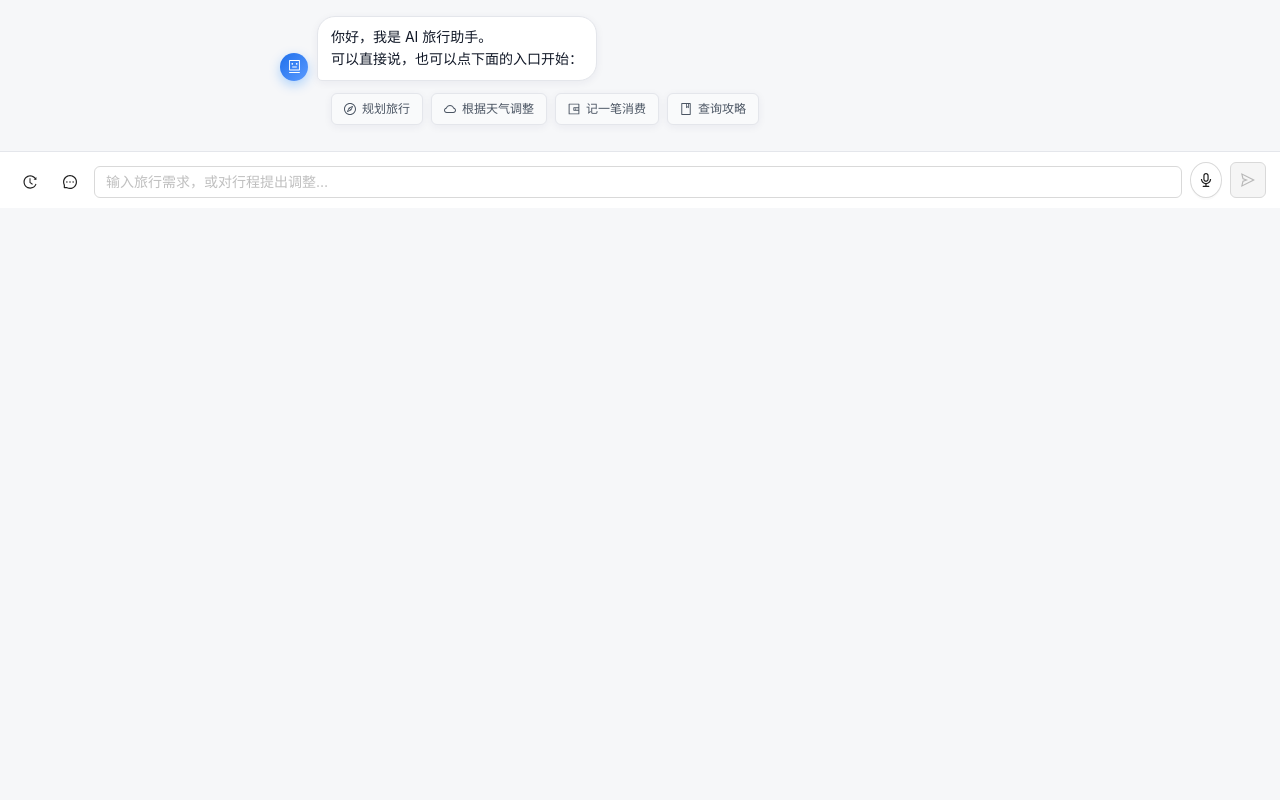
Test: ChatPanel · V2.2 过程时间线与同步结果面板 › 运行记录入口打开抽屉并拉取最近运行（AgentRunsDrawer 自包含）
Click the button named "运行记录".
click(30, 182)  # box [14,166,46,198]
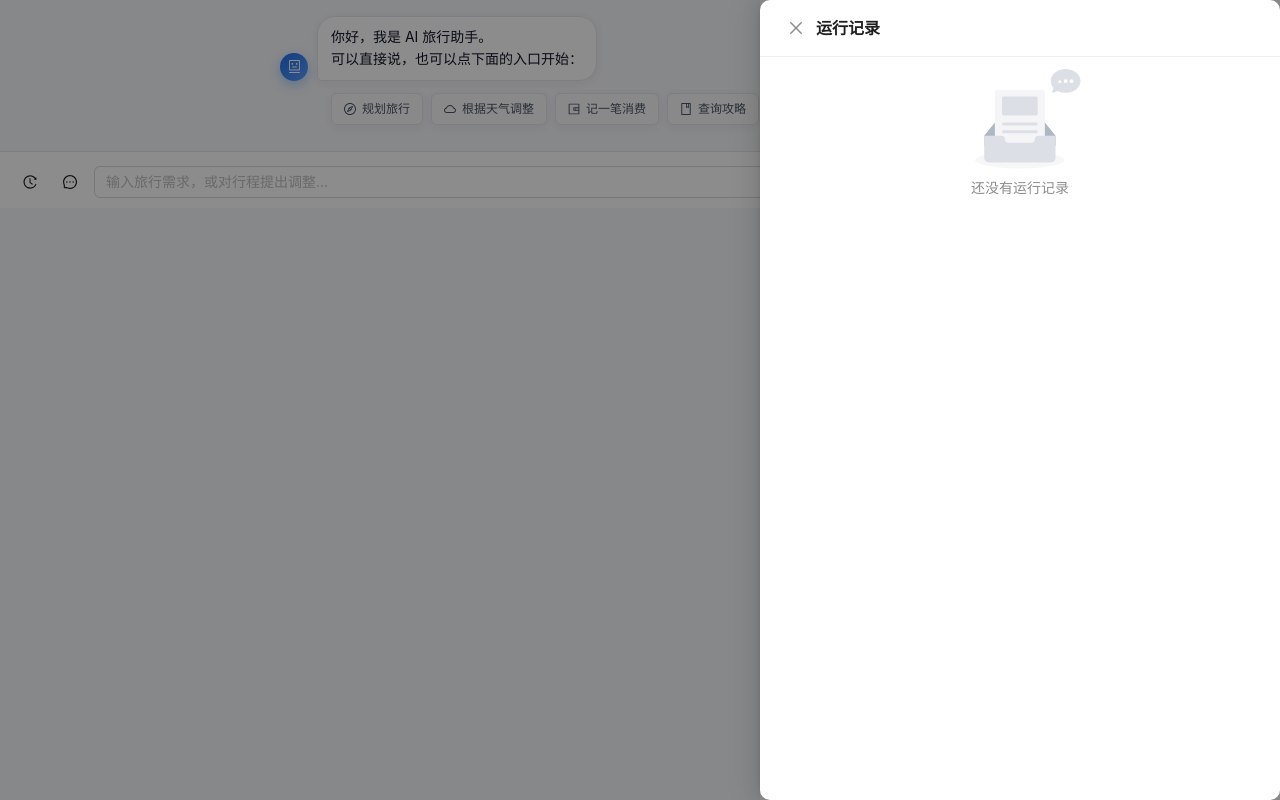
Now the element with test id "agent-runs-drawer" is shown, box [928,69,1112,196]
